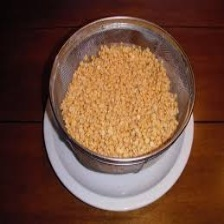dal: (59, 41, 184, 164)
